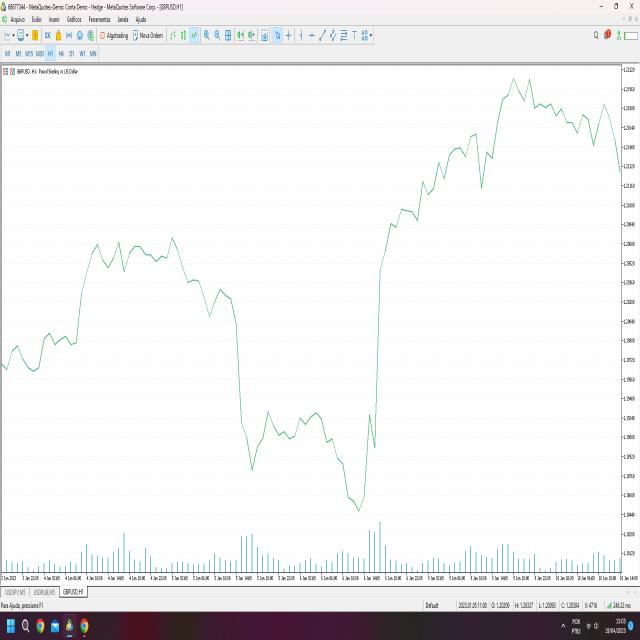fundo_duplo: (225, 318, 412, 526)
